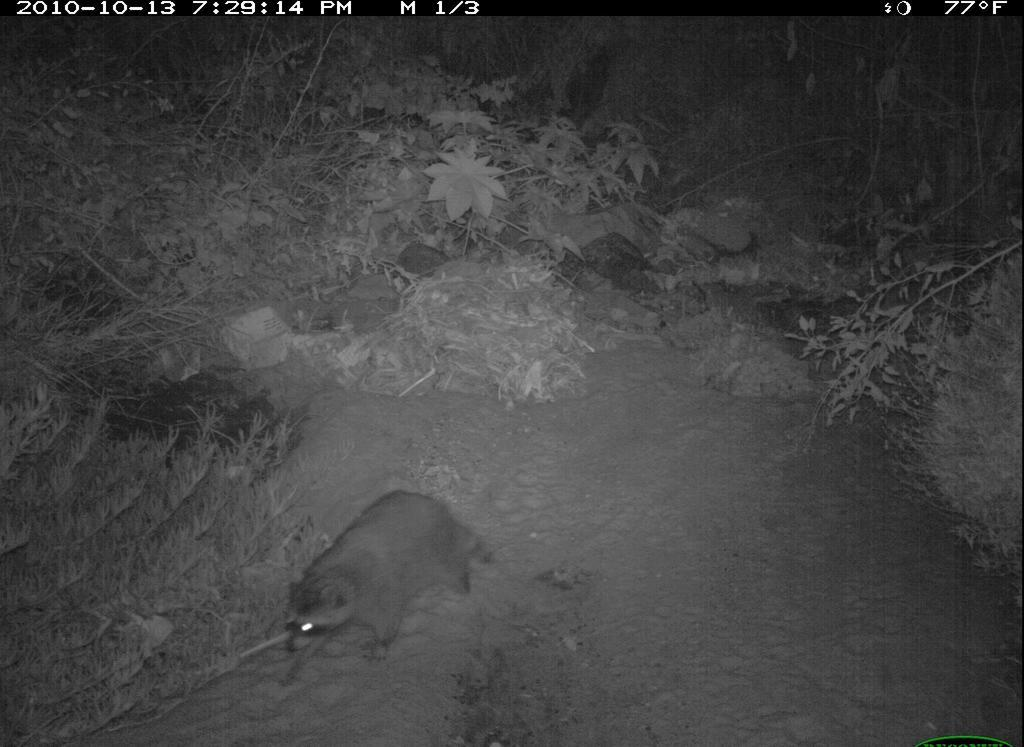raccoon: (274, 486, 501, 693)
